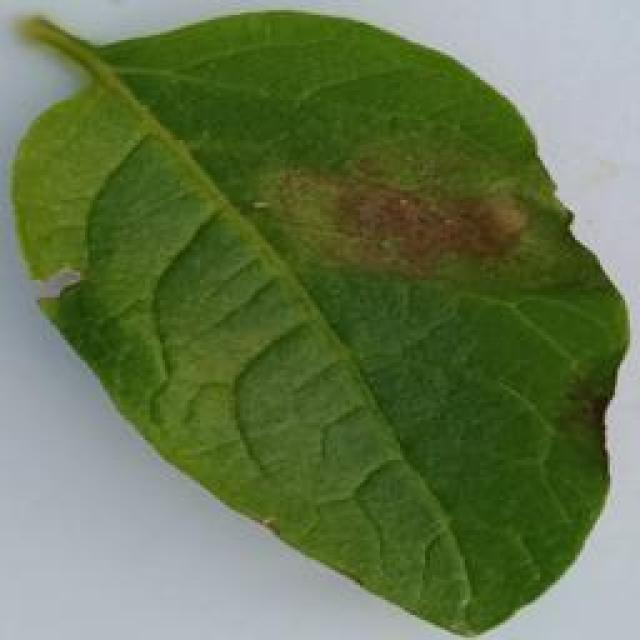Potato_Late_Blight: (8, 7, 630, 638)
